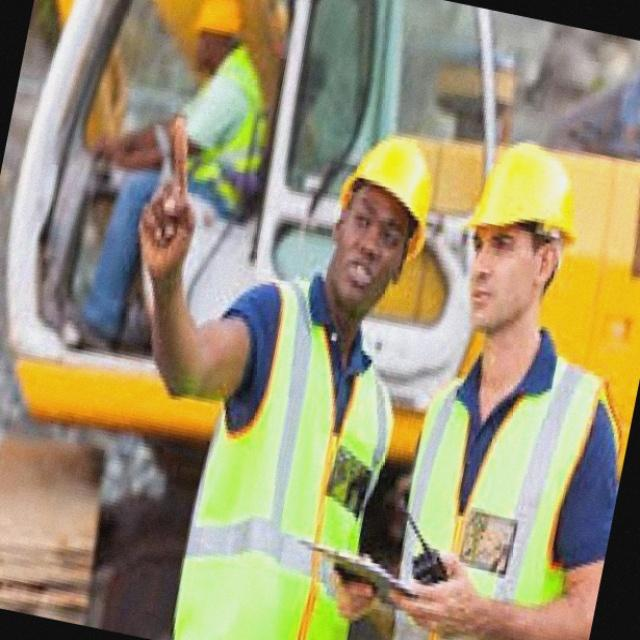helmet: (342, 103, 435, 264), (459, 132, 585, 244)
safety_vest: (174, 289, 403, 640), (398, 364, 610, 636)
